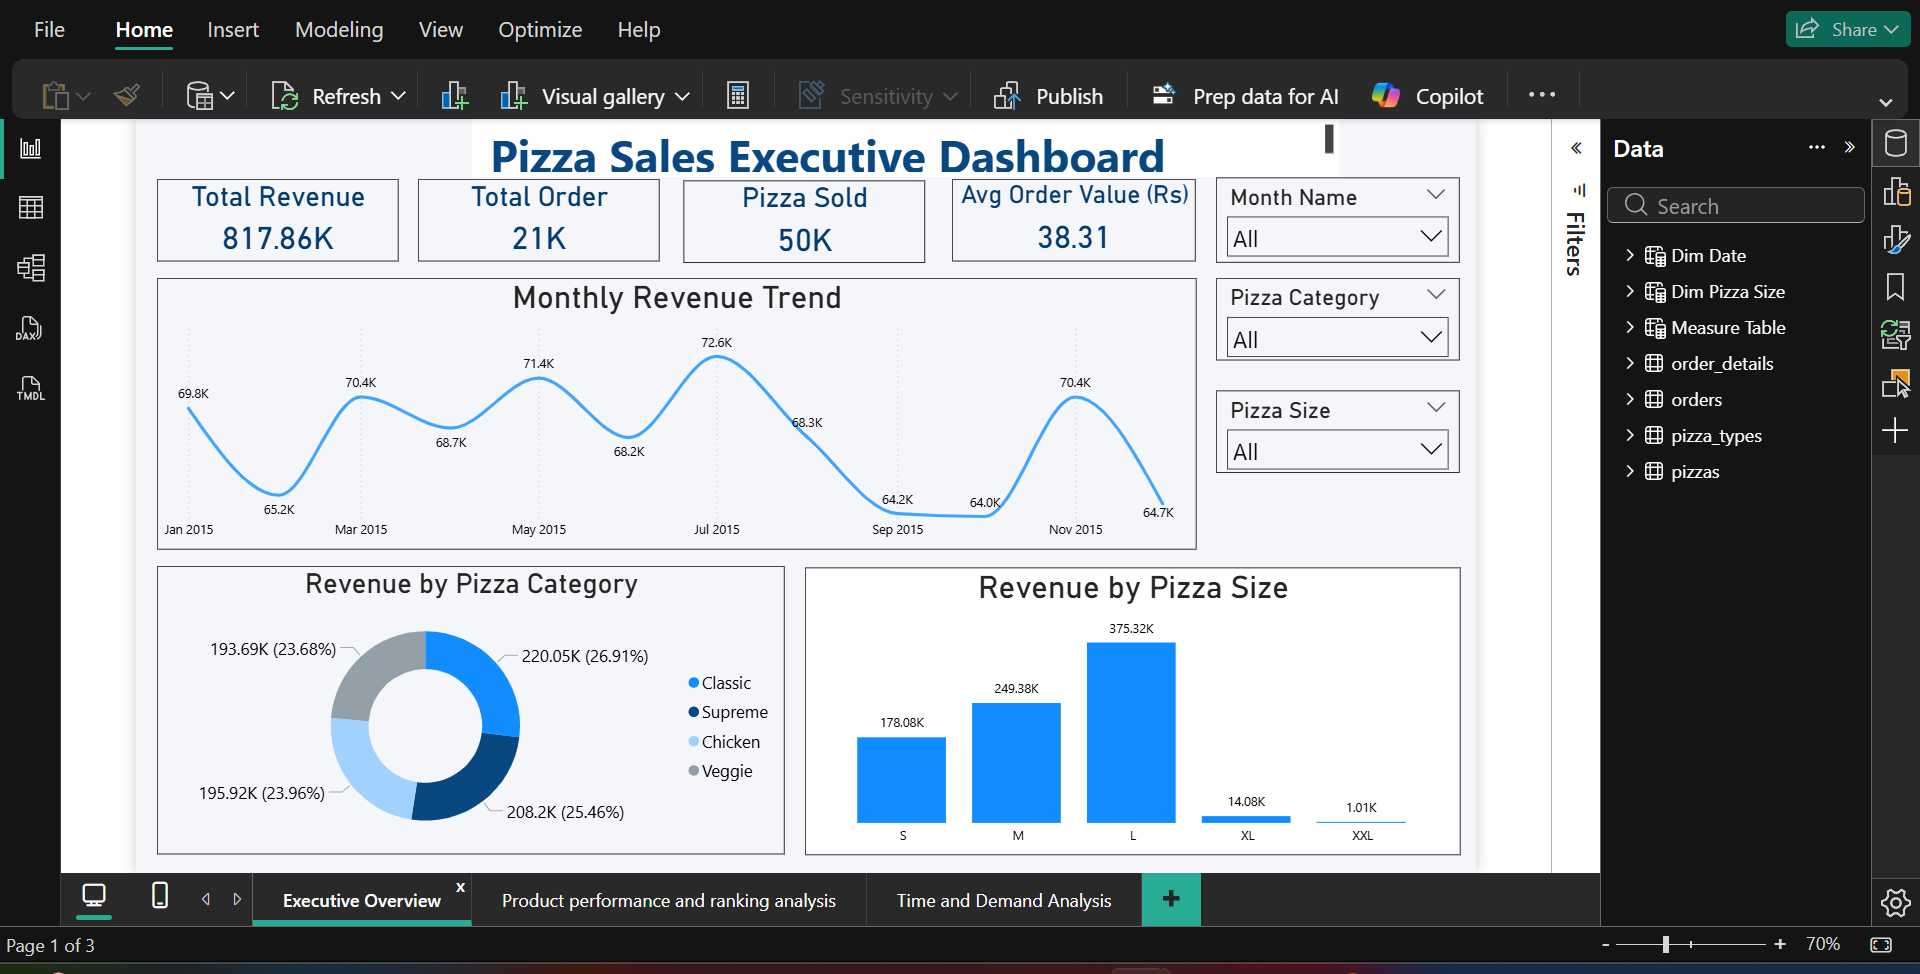

The page's visual inventory and layout, read from the dashboard file:
{"tool":"powerbi","page":{"name":"Executive Overview","canvas":[1280,720],"ordinal":0},"visuals":[{"type":"card","title":"Total Revenue","fields":{"Values":["Measure Table.Total Revenue"]},"box":[20.3,56.7,230.9,79],"z":0},{"type":"card","title":"Avg Order Value (Rs)","fields":{"Values":["Measure Table.Average Order Value"]},"box":[779.7,56.7,232.9,79],"z":3000},{"type":"lineChart","title":"Monthly Revenue Trend","fields":{"Y":["Measure Table.Total Revenue"],"Category":["Dim Date.Date.Variation.Date Hierarchy.Year","Dim Date.Date.Variation.Date Hierarchy.Month"]},"box":[20.3,151.9,992.4,259.2],"z":4000},{"type":"donutChart","title":" Revenue by Pizza Category","fields":{"Y":["Measure Table.Total Revenue"],"Category":["pizza_types.category"]},"box":[20.3,427.3,599.5,275.4],"z":5000},{"type":"clusteredColumnChart","title":" Revenue by Pizza Size","fields":{"Y":["Measure Table.Total Revenue"],"Category":["Dim Pizza Size.Pizza Size"]},"box":[639.2,427.8,626.2,274.9],"z":6000},{"type":"slicer","fields":{"Values":["Dim Date.Month Name"]},"box":[1031.2,55.3,232.6,81.3],"z":7000},{"type":"slicer","fields":{"Values":["Dim Pizza Size.Pizza Size"]},"box":[1030.9,259.2,232.9,79],"z":8000},{"type":"slicer","fields":{"Values":["pizza_types.Pizza Category"]},"box":[1030.9,151.9,232.9,79],"z":9000},{"type":"textbox","box":[320.4,0,827.9,55.3],"z":10000},{"type":"card","title":"Total Order","fields":{"Values":["Measure Table.Total Orders"]},"box":[269.4,56.7,230.9,79],"z":10001},{"type":"card","title":"Pizza Sold","fields":{"Values":["Measure Table.Pizzas Sold"]},"box":[522.5,58.7,230.9,79],"z":10002}]}

Visuals, with their boxes on the page's 1280x720 design canvas (x1, y1, x2, y2). These are canvas units, not pixel positions in the 1920x974 screenshot, which may show the page scaled, cropped or inside an application window:
"Total Revenue" card: crop(20, 57, 251, 136)
"Avg Order Value (Rs)" card: crop(780, 57, 1013, 136)
"Monthly Revenue Trend" lineChart: crop(20, 152, 1013, 411)
" Revenue by Pizza Category" donutChart: crop(20, 427, 620, 703)
" Revenue by Pizza Size" clusteredColumnChart: crop(639, 428, 1265, 703)
slicer - Dim Date.Month Name: crop(1031, 55, 1264, 137)
slicer - Dim Pizza Size.Pizza Size: crop(1031, 259, 1264, 338)
slicer - pizza_types.Pizza Category: crop(1031, 152, 1264, 231)
textbox: crop(320, 0, 1148, 55)
"Total Order" card: crop(269, 57, 500, 136)
"Pizza Sold" card: crop(522, 59, 753, 138)
